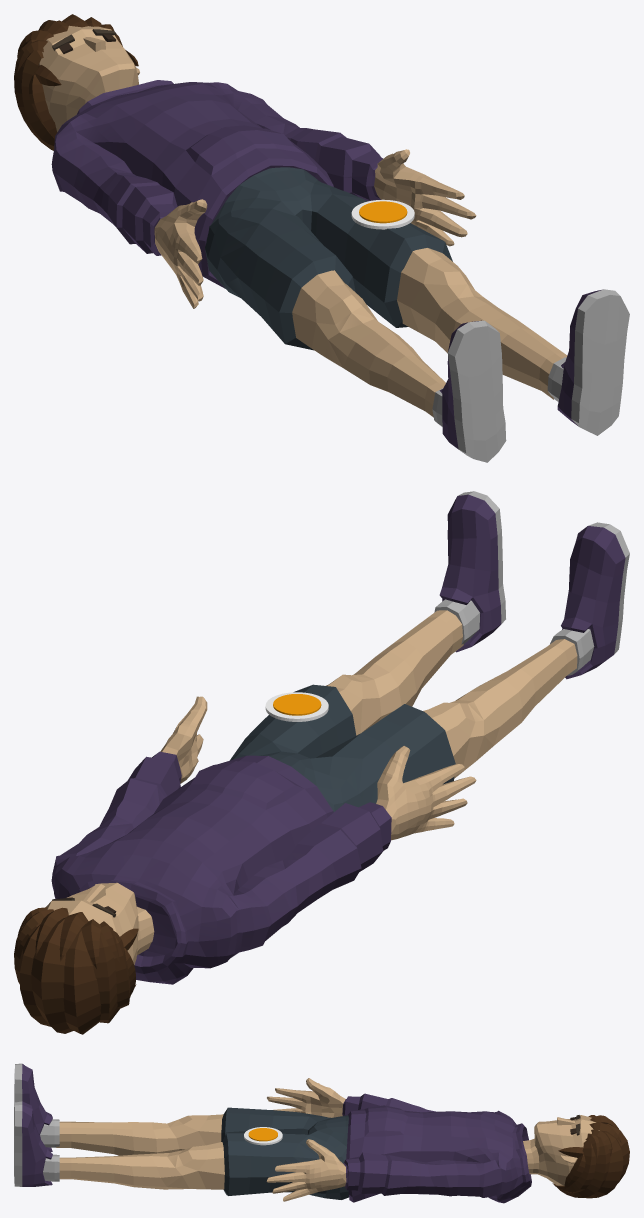
Rendered from poc-casualty-regions.glb.
The picture shows the model from 3 angles, top to bottom: view 1: azimuth 30°, elevation 25°; view 2: azimuth 150°, elevation 25°; view 3: azimuth 270°, elevation 25°; orthographic projection. The views are drawn at different scales.
Parts seen in each view (by area): view 1: thigh_right, thigh_left, chest, arm_right, head, abdomen, foot_left, foot_right, arm_left, pelvis, lower_leg_right, lower_leg_left (+2 smaller); view 2: head, arm_right, chest, airway, thigh_right, foot_left, foot_right, abdomen, thigh_left, lower_leg_left, lower_leg_right, arm_left (+2 smaller); view 3: arm_left, head, thigh_left, chest, lower_leg_right, lower_leg_left, thigh_right, abdomen, foot_left, arm_right, airway, pelvis (+2 smaller).
Part boxes in pixels (box(x1,y1,x2,y2)): thigh_right: box(220, 209, 377, 367); thigh_left: box(311, 194, 474, 352); chest: box(70, 82, 317, 185); arm_right: box(51, 122, 207, 308); head: box(14, 14, 139, 150); abdomen: box(162, 125, 345, 288); foot_left: box(547, 289, 629, 435); foot_right: box(432, 320, 506, 462); arm_left: box(227, 84, 476, 246); pelvis: box(205, 167, 361, 300); lower_leg_right: box(328, 312, 445, 417); lower_leg_left: box(435, 284, 567, 399); head: box(14, 882, 154, 1034); arm_right: box(227, 746, 476, 952); chest: box(76, 784, 297, 895); airway: box(52, 854, 242, 984); thigh_right: box(317, 700, 493, 803); foot_left: box(434, 491, 505, 652); foot_right: box(550, 522, 629, 679); abdomen: box(157, 755, 333, 846); thigh_left: box(230, 674, 382, 760); lower_leg_left: box(352, 610, 463, 717); lower_leg_right: box(455, 639, 577, 745); arm_left: box(51, 696, 207, 885); arm_left: box(266, 1139, 499, 1201); head: box(523, 1115, 629, 1198); thigh_left: box(165, 1133, 319, 1195); chest: box(400, 1109, 501, 1202); lower_leg_right: box(56, 1120, 179, 1155); lower_leg_left: box(59, 1153, 181, 1189); thigh_right: box(170, 1107, 309, 1151); abdomen: box(346, 1101, 404, 1202); foot_left: box(14, 1101, 59, 1186); arm_right: box(267, 1078, 493, 1117); airway: box(494, 1111, 531, 1203); pelvis: box(288, 1112, 348, 1199).
Size of the model in its own units: 0.5606 by 0.3537 by 1.75.
